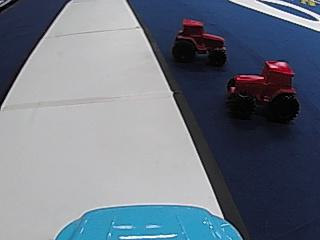Tracktor: (222, 56, 300, 123), (172, 16, 226, 64)
